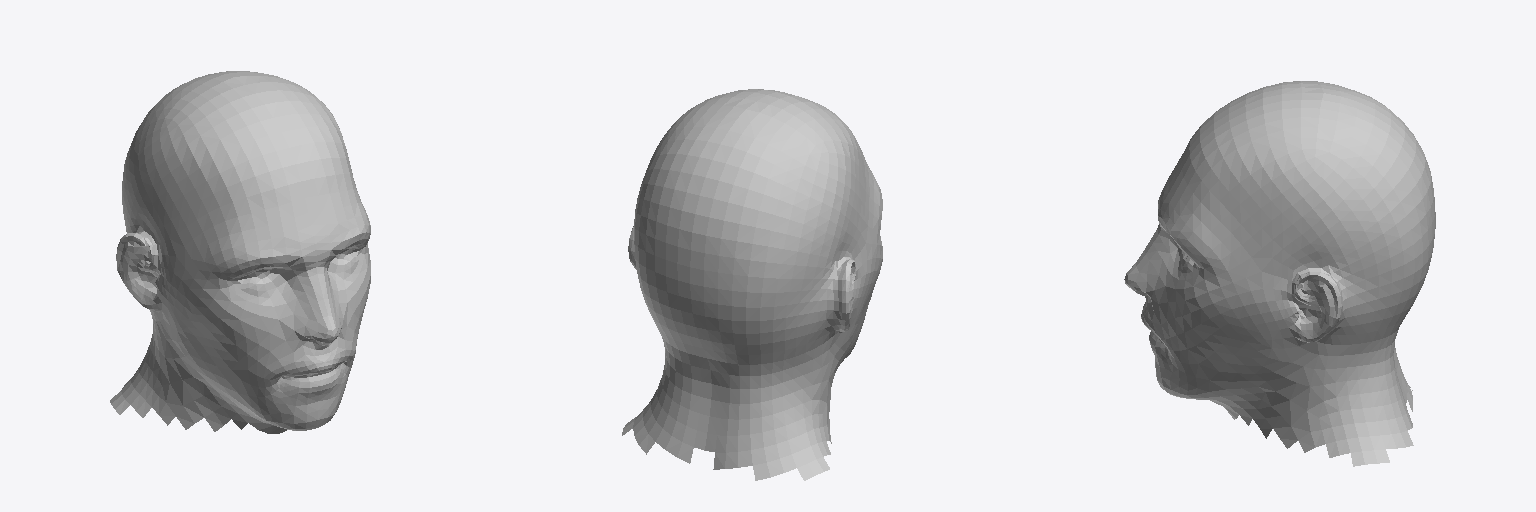
File: head.obj
The picture shows the model from 3 angles: view 1: azimuth 30°, elevation 25°; view 2: azimuth 150°, elevation 25°; view 3: azimuth 270°, elevation 25°; orthographic projection.
Visible parts, largest first — view 1: 000_Male_base_-_piece_2; view 2: 000_Male_base_-_piece_2; view 3: 000_Male_base_-_piece_2.
Part boxes in pixels (x1,y1,x2,y2): 000_Male_base_-_piece_2: (110, 71, 370, 433); 000_Male_base_-_piece_2: (622, 89, 882, 480); 000_Male_base_-_piece_2: (1124, 81, 1435, 466).
Size of the model in its own units: 2.07 by 2.92 by 2.53.